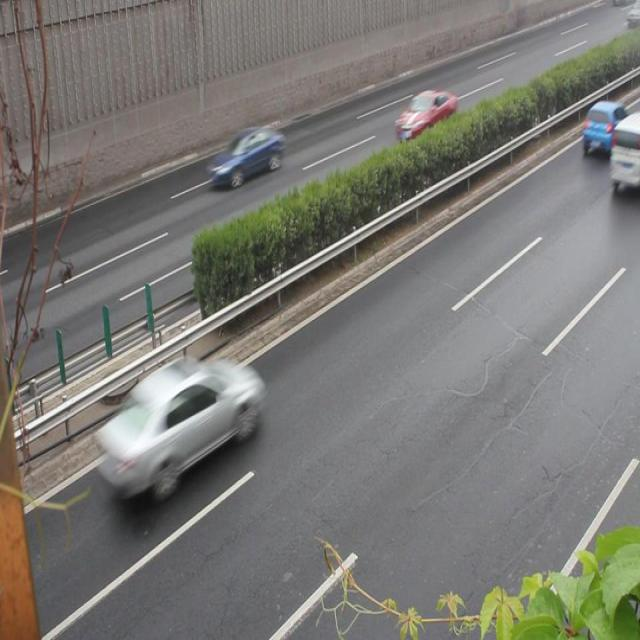car: (95, 355, 262, 495), (208, 128, 284, 185), (393, 88, 456, 143), (577, 100, 625, 158)
truck: (604, 119, 640, 192)
